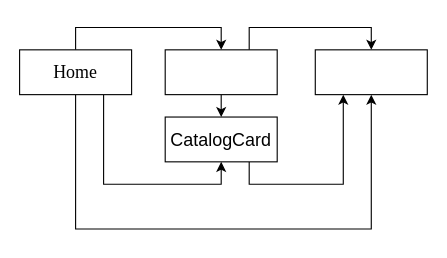
Some shapes in this 447 by 258 pixel diagram are drawn without their labels. The centre of each missing label's shape, as x and y in pixels:
Basket: point 370,72
Catalog: point 220,72
